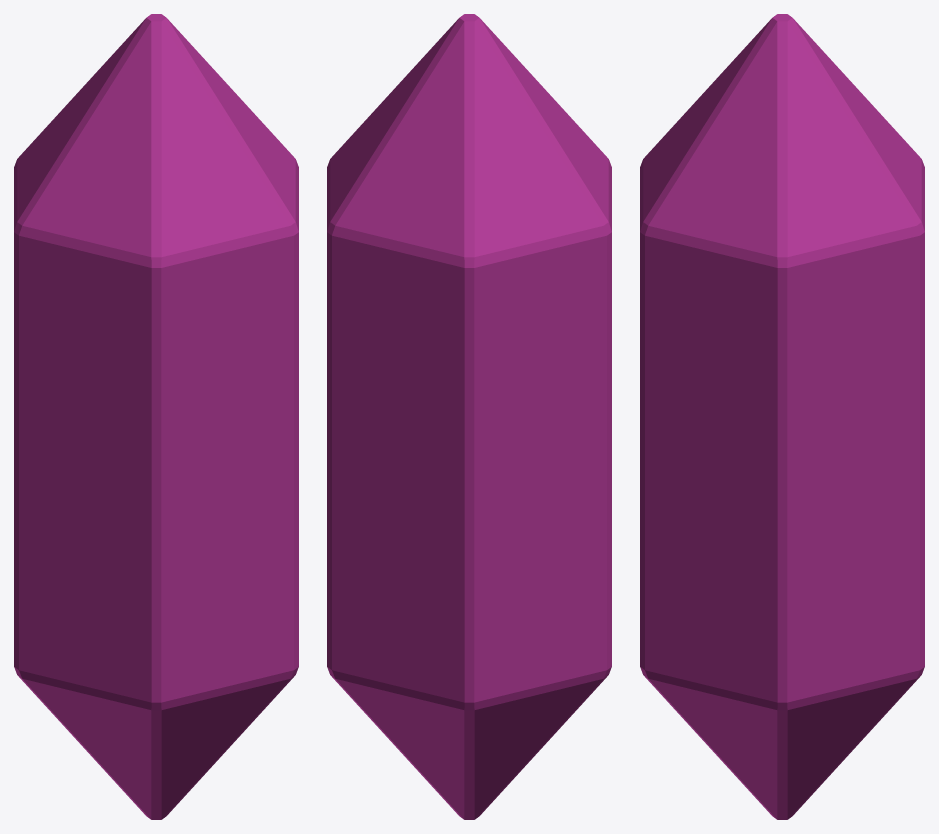
The model's file is nat_crystal_2.glb.
The picture shows the model from 3 angles, left to right: view 1: azimuth 30°, elevation 25°; view 2: azimuth 150°, elevation 25°; view 3: azimuth 270°, elevation 25°; orthographic projection.
Visible parts, largest first — view 1: nat_crystal_2; view 2: nat_crystal_2; view 3: nat_crystal_2.
Part boxes in pixels (box(x1,y1,x2,y2)): nat_crystal_2: box(14, 14, 298, 819); nat_crystal_2: box(327, 14, 611, 819); nat_crystal_2: box(640, 14, 924, 819).
Size of the model in its own units: 0.6606 by 1.8 by 0.5819.
